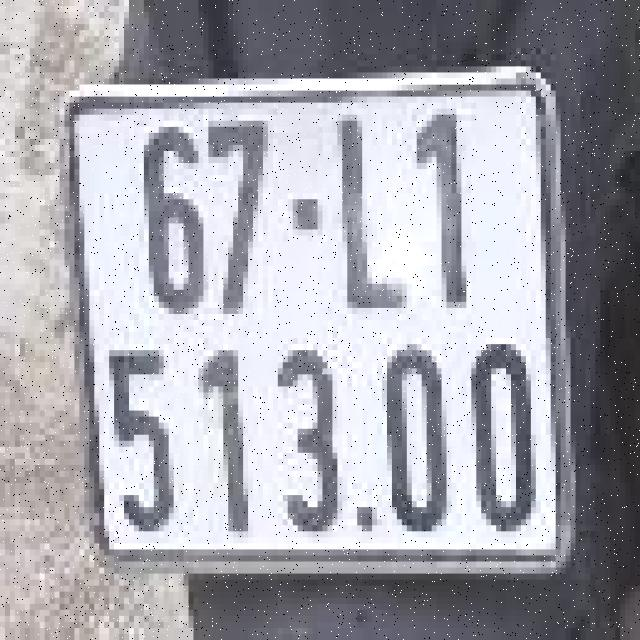0: (362, 335, 452, 540), (459, 341, 548, 547)
1: (409, 106, 489, 311), (191, 341, 260, 528)
3: (263, 335, 347, 547)
5: (92, 320, 181, 537)
6: (136, 121, 206, 320)
7: (206, 115, 270, 320)
L: (320, 112, 414, 323)
